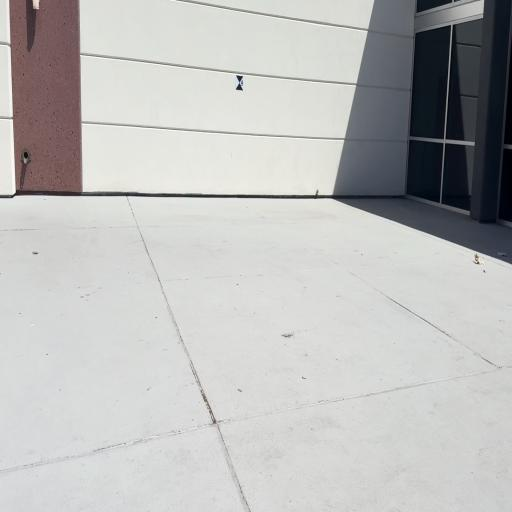target4: (235, 75, 243, 91)
